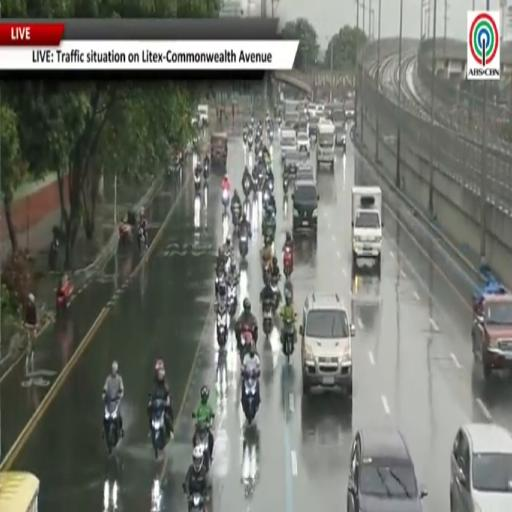bus: (0, 472, 39, 511)
car: (346, 428, 426, 511), (300, 293, 354, 399), (450, 424, 511, 511), (472, 282, 511, 379), (292, 179, 319, 235), (282, 150, 307, 177), (296, 132, 310, 156), (296, 163, 314, 180)
motorcycle: (151, 399, 167, 458), (242, 372, 259, 424), (104, 399, 119, 455), (195, 422, 211, 471), (216, 302, 229, 348), (56, 281, 73, 314), (239, 326, 253, 361), (283, 319, 294, 362), (262, 299, 274, 337), (271, 277, 281, 313), (119, 222, 133, 246), (283, 247, 293, 280), (228, 283, 237, 316), (189, 493, 205, 511), (215, 269, 225, 297), (239, 230, 248, 259), (138, 227, 148, 253), (264, 223, 275, 246), (232, 204, 241, 232), (243, 175, 251, 198), (222, 189, 229, 215), (252, 172, 258, 198), (258, 166, 264, 190), (265, 179, 273, 195), (194, 174, 200, 195), (203, 163, 209, 184), (283, 175, 288, 197), (350, 123, 355, 141), (248, 134, 253, 150), (268, 130, 273, 145), (243, 134, 247, 145)
truck: (472, 265, 511, 379), (352, 186, 382, 270), (316, 122, 335, 172), (331, 106, 347, 152), (211, 133, 227, 174), (280, 130, 297, 162), (197, 104, 209, 127)
